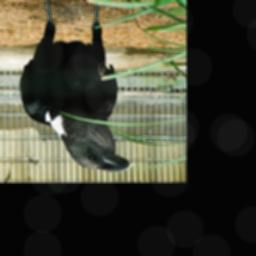Crow: (20, 0, 136, 173)
